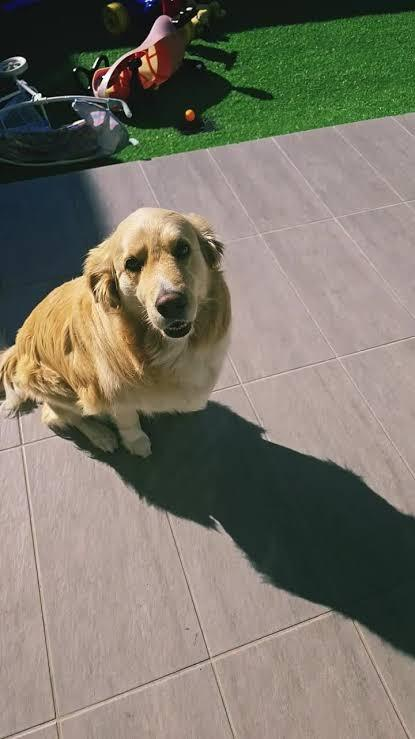adult_dog: (0, 206, 233, 458)
